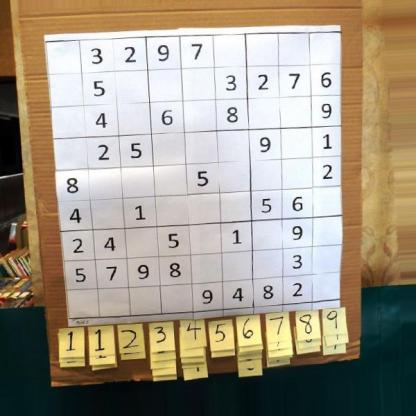sudoku: (43, 28, 343, 320)
